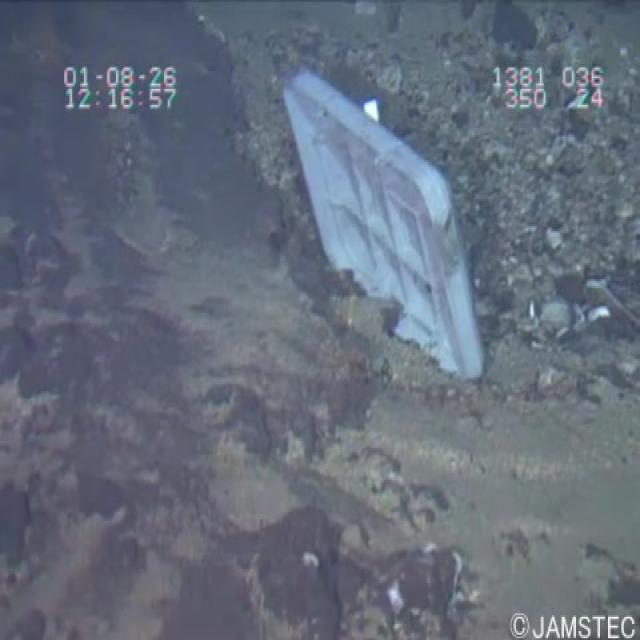plastic: (266, 48, 514, 404)
